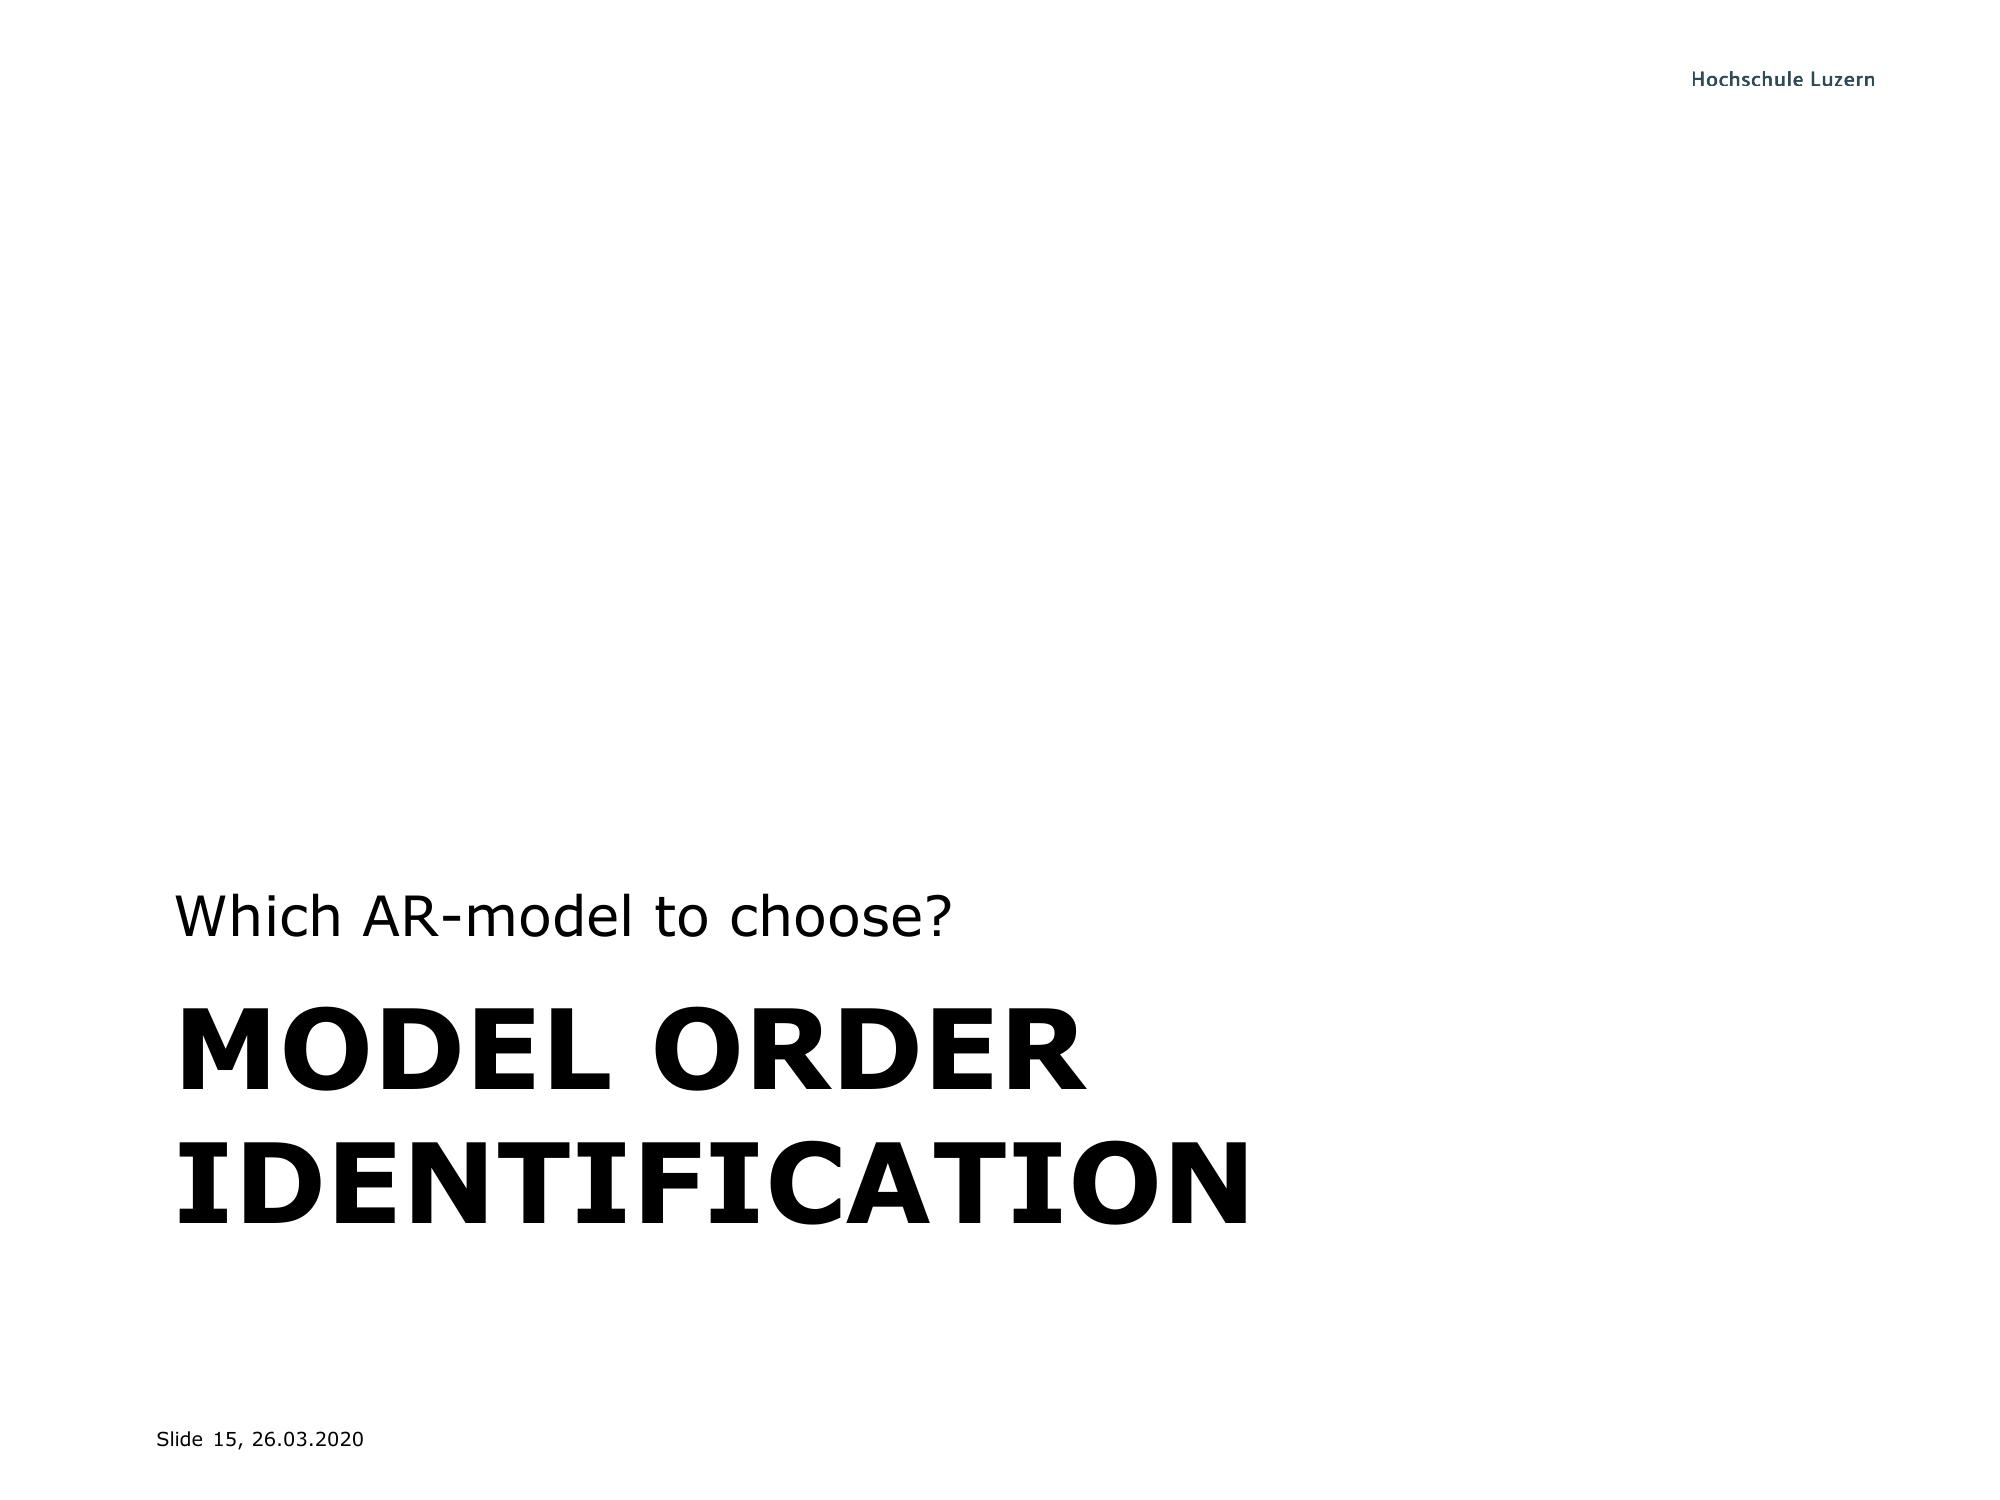Title: (161, 991, 1266, 1249)
